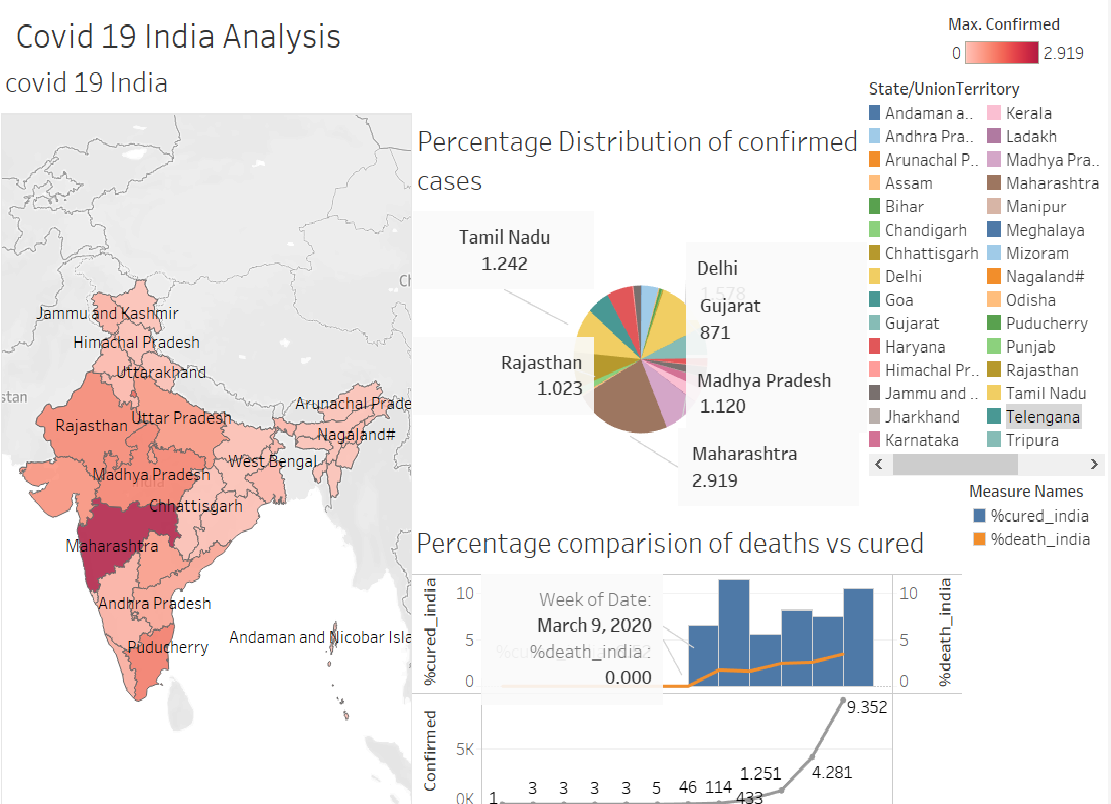

Layout of this report page (visuals, bound fields, positions):
{"tool":"tableau","page":{"name":"Dashboard 1","canvas":[1100,800],"ordinal":0},"visuals":[{"type":"title","box":[8,8,1084,50]},{"type":"legend","title":"covid 19 India ","param":"[federated.1x2imrb1ncjk8d1clcq06115uilj].[max:Confirmed:qk]","box":[941,13,140,88]},{"type":"worksheet","title":"covid 19 India ","mark":"Automatic","box":[1,54,408,746]},{"type":"legend","title":"Percentage Distribution of confirmed cases","param":"[federated.1x2imrb1ncjk8d1clcq06115uilj].[none:State/UnionTerritory:nk]","box":[863,71,236,359]},{"type":"worksheet","title":"Percentage Distribution of confirmed cases","mark":"Pie","box":[410,107,452,351]},{"type":"legend","title":"Percentage comparision of deaths vs cured","param":"[federated.1x2imrb1ncjk8d1clcq06115uilj].[:Measure Names]","box":[962,433,140,64]},{"type":"worksheet","title":"Percentage comparision of deaths vs cured","mark":"Automatic","rows":["Calculation_153966837951270912","Calculation_153966837951922177","Confirmed"],"cols":["Date"],"box":[409,468,547,327]}]}

Visuals, with their boxes in screenshot pixels (x1, y1, x2, y2), scaled from the page's 1100x800 canvas onto the 1111x804 screenshot:
title: [8, 8, 1103, 58]
"covid 19 India " legend: [950, 13, 1092, 102]
"covid 19 India " worksheet: [1, 54, 413, 803]
"Percentage Distribution of confirmed cases" legend: [872, 71, 1110, 432]
"Percentage Distribution of confirmed cases" worksheet (Pie marks): [414, 108, 871, 460]
"Percentage comparision of deaths vs cured" legend: [972, 435, 1110, 499]
"Percentage comparision of deaths vs cured" worksheet: [413, 470, 966, 799]
